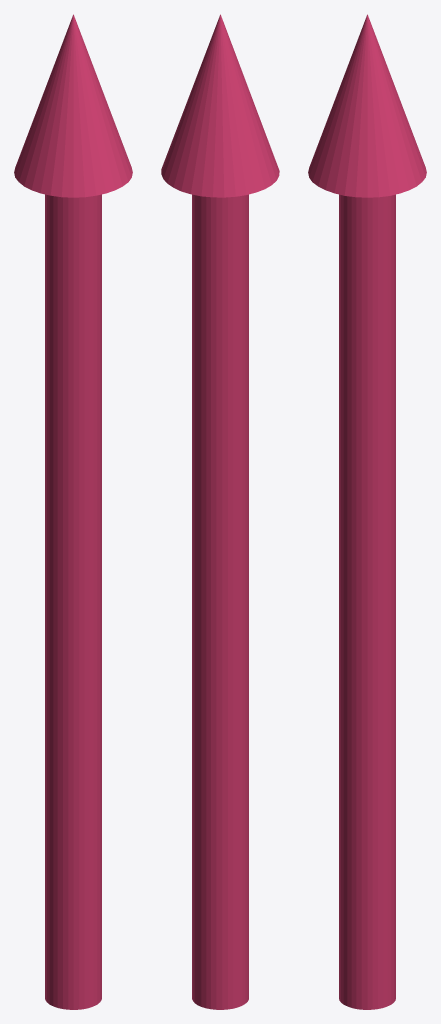
Rendered from Axis 0_C6H6.gltf.
3 views of the same model, side by side, from view 1: azimuth 90°, elevation 25°; view 2: azimuth 150°, elevation 25°; view 3: azimuth 270°, elevation 25° (orthographic).
Parts seen in each view (by area): view 1: Eje_Cono.001; view 2: Eje_Cono.001; view 3: Eje_Cono.001.
Boxes of the visible parts, bbox=[...] form: Eje_Cono.001: bbox=[14, 14, 132, 1009]; Eje_Cono.001: bbox=[161, 14, 279, 1009]; Eje_Cono.001: bbox=[308, 14, 426, 1009].
Bounding box in the file's own units: 0.1507 × 1.38 × 0.1507.
